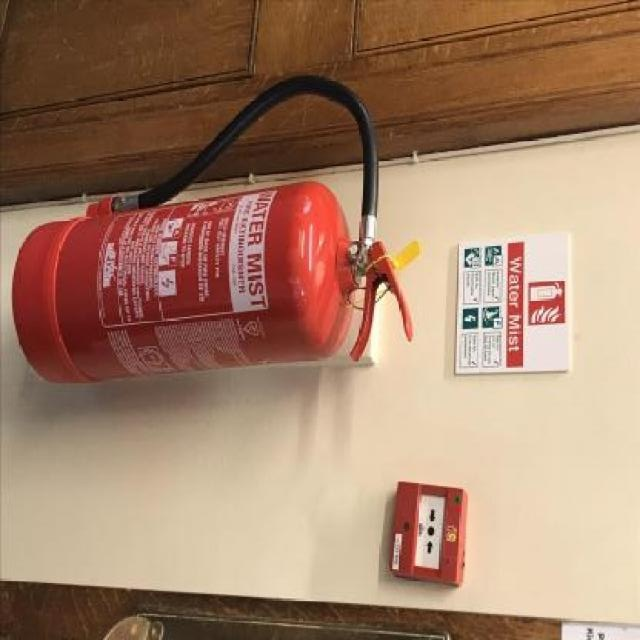fire extinguisher: (12, 93, 419, 387)
